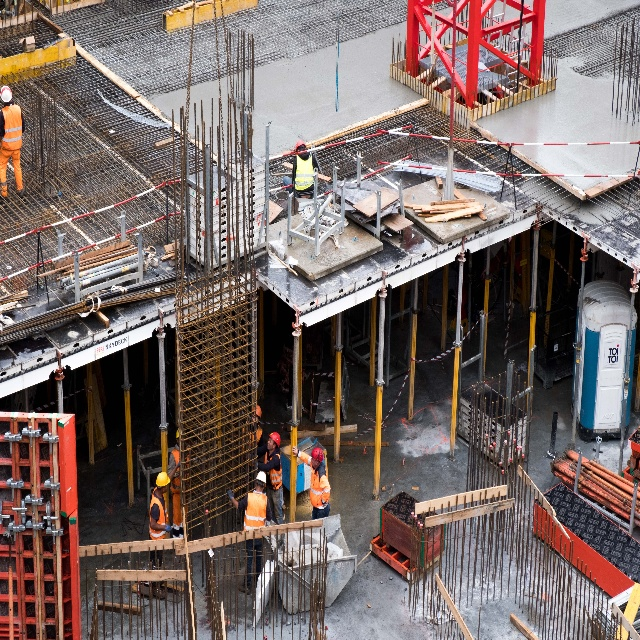Guantes: (227, 489, 234, 500), (164, 524, 172, 533), (173, 470, 179, 479)
Sin_guantes: (292, 445, 298, 457)
